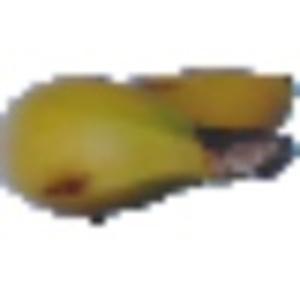banana: (3, 66, 289, 216)
